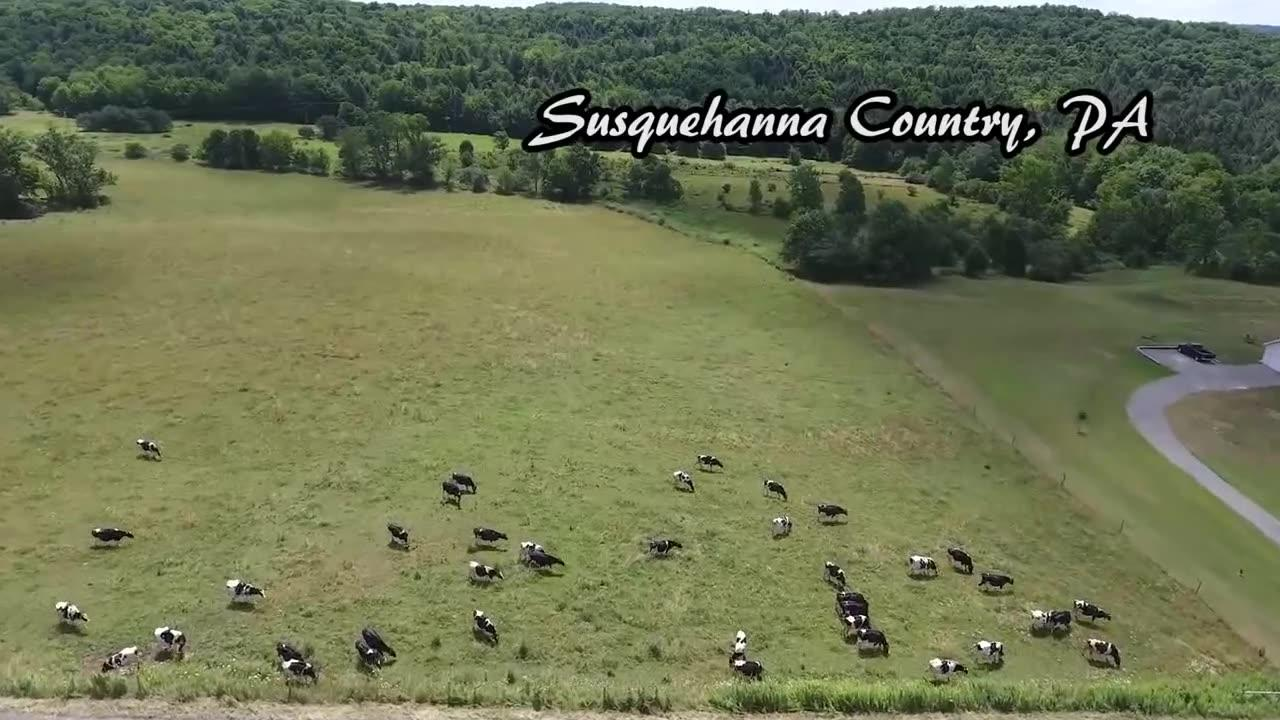cow: (1080, 636, 1128, 672), (359, 624, 401, 663), (101, 642, 143, 678), (853, 626, 896, 661), (222, 576, 267, 609), (53, 597, 91, 635), (923, 655, 971, 685), (468, 607, 504, 645), (151, 623, 190, 658), (1071, 595, 1112, 628), (465, 557, 505, 590), (351, 637, 388, 671), (279, 655, 322, 684), (524, 549, 570, 575), (90, 523, 134, 550), (972, 637, 1009, 667), (977, 568, 1016, 595), (906, 552, 942, 581), (945, 543, 978, 574), (646, 536, 687, 560), (272, 636, 308, 663), (668, 467, 700, 497), (136, 435, 166, 467), (471, 525, 509, 550), (815, 500, 852, 525), (448, 467, 481, 495), (1046, 605, 1076, 635), (821, 559, 851, 589), (438, 478, 466, 510), (727, 657, 767, 679), (761, 476, 789, 504), (694, 451, 726, 475), (769, 514, 797, 539), (385, 520, 412, 545), (728, 625, 751, 653), (516, 537, 546, 558), (838, 599, 868, 616), (1025, 610, 1050, 630), (844, 614, 870, 632)
